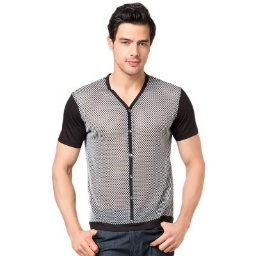face: (108, 3, 156, 77)
